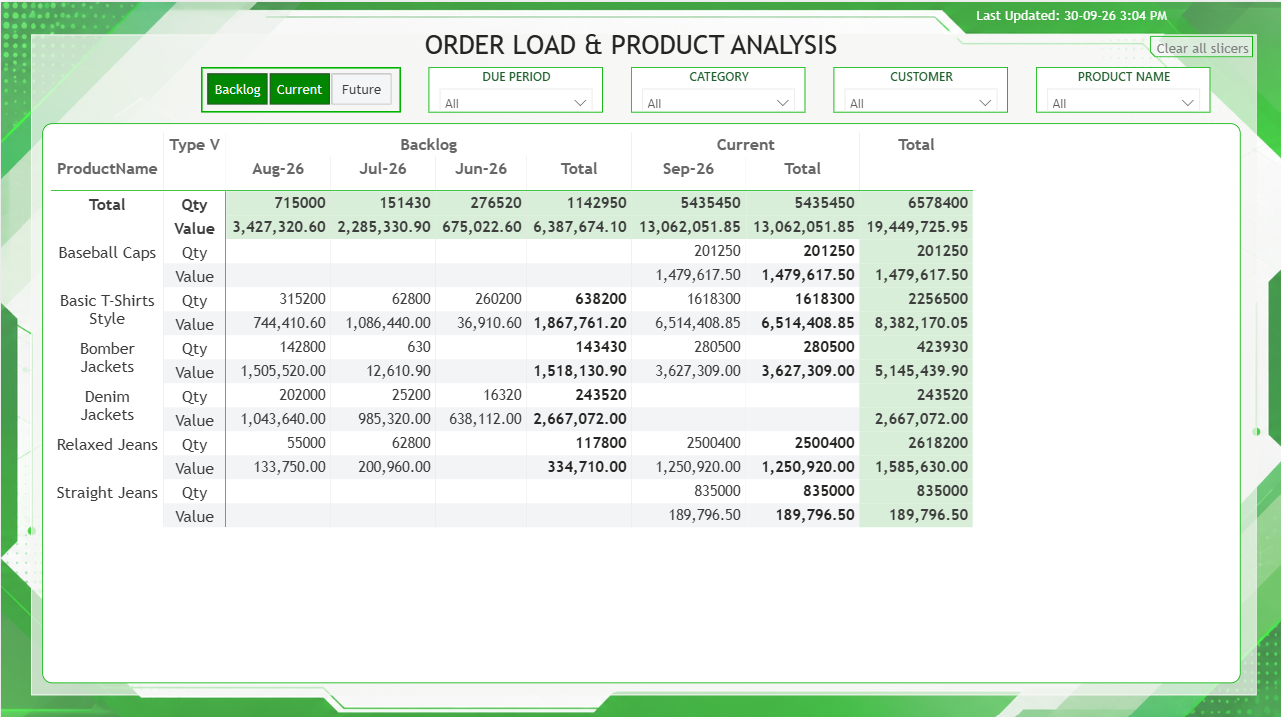

This screenshot's page, from the dashboard's own definition file:
{"tool":"powerbi","page":{"name":"ORDER LOAD ANALYSIS","canvas":[1280,720],"ordinal":1},"visuals":[{"type":"shape","box":[29.5,31.9,1226,660.9],"z":0},{"type":"textbox","box":[419.3,22.3,445.4,76.9],"z":1000},{"type":"advancedSlicerVisual","fields":{"Values":["Sales Order Report.SalesType"]},"box":[199.9,65.1,200.2,45.5],"z":2000},{"type":"slicer","title":"CUSTOMER","fields":{"Values":["Sales Order Report.CardName"]},"box":[832.8,65.1,174.4,45.5],"z":3000},{"type":"slicer","title":"CATEGORY","fields":{"Values":["Sales Order Report.ProductCategory"]},"box":[630.4,65.1,174.4,45.5],"z":4000},{"type":"slicer","title":"PRODUCT NAME","fields":{"Values":["Sales Order Report.ProductName"]},"box":[1035.5,65.1,174.4,45.5],"z":5000},{"type":"pivotTable","fields":{"Columns":["Sales Order Report.Type V","Sales Order Report.Month Year"],"Rows":["Sales Order Report.ProductName","Sales Order Report.ProductCategory","Sales Order Report.Dscription"],"Values":["Sales Order Report.Order Quantity","Sales Order Report.Order Value"]},"box":[40.8,121.1,1198.4,559.7],"z":6000},{"type":"card","fields":{"Values":["Refresh_Date.Refresh_Updated"]},"box":[961.3,0,219.3,31.9],"z":7000},{"type":"actionButton","box":[1148.7,33.1,103.3,21.7],"z":8000},{"type":"slicer","title":"DUE PERIOD","fields":{"Values":["Sales Order Report.Year","Sales Order Report.Month YEar"]},"box":[428.1,65.1,174.4,45.5],"z":9000}]}

Visuals, with their boxes in screenshot pixels (x1, y1, x2, y2), scaled from the page's 1280x720 canvas onto the 1281x717 screenshot:
shape: 30,32,1256,690
textbox: 420,22,865,99
advancedSlicerVisual - Sales Order Report.SalesType: 200,65,400,110
"CUSTOMER" slicer: 833,65,1008,110
"CATEGORY" slicer: 631,65,805,110
"PRODUCT NAME" slicer: 1036,65,1211,110
pivotTable - Sales Order Report.Type V x Sales Order Report.Month Year: 41,121,1240,678
card - Refresh_Date.Refresh_Updated: 962,0,1182,32
actionButton: 1150,33,1253,55
"DUE PERIOD" slicer: 428,65,603,110
